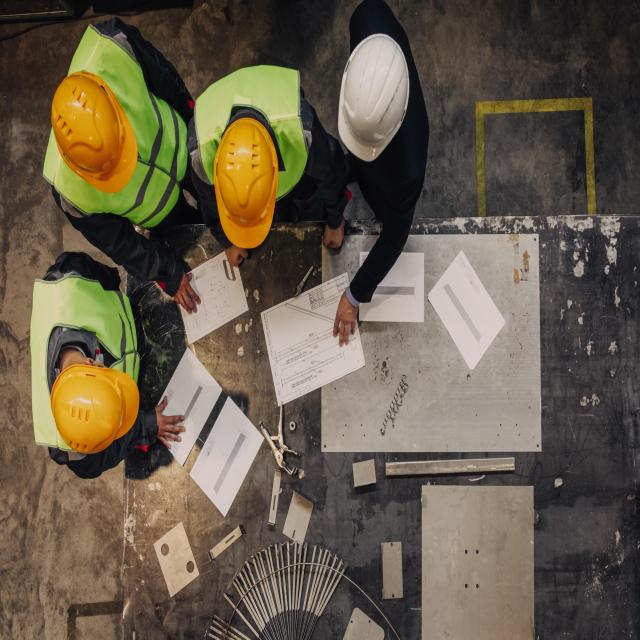Reflective-Jacket: (48, 34, 188, 230), (27, 268, 140, 452), (199, 66, 304, 192)
Safety-Helmet: (338, 32, 410, 160), (50, 354, 138, 451), (215, 115, 277, 252), (50, 66, 125, 176)
